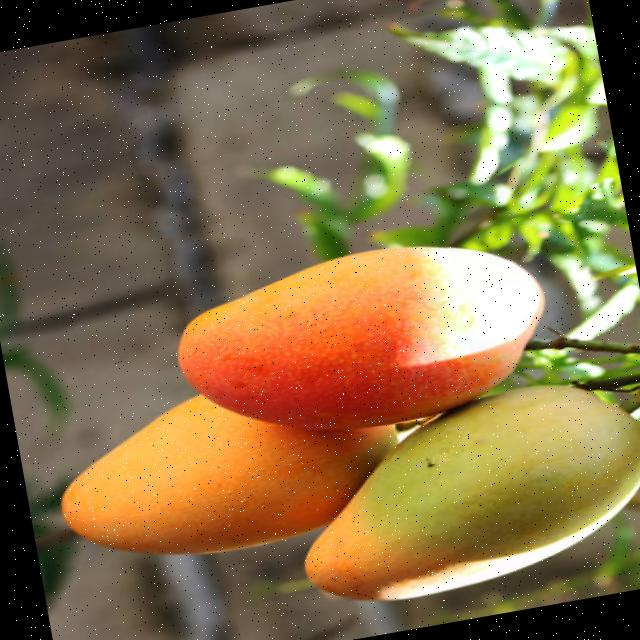mango: (303, 385, 640, 600), (177, 246, 542, 429), (60, 395, 395, 553), (29, 484, 75, 604)
